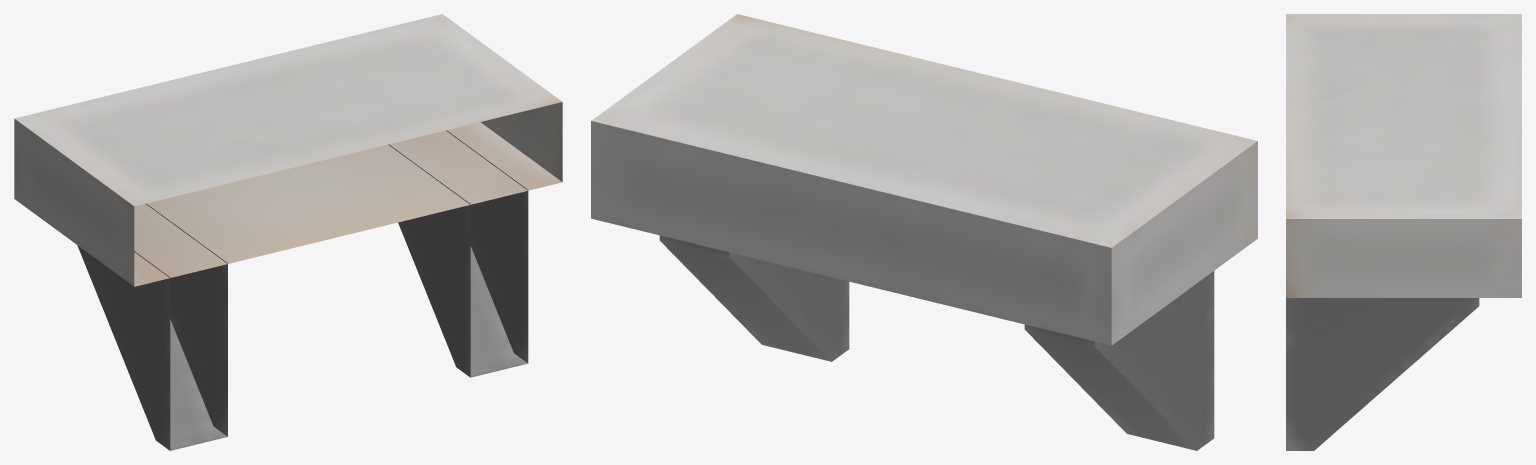
File: Pfb_Indoors_Study_Shelf__7.fbx
The picture shows the model from 3 angles, left to right: view 1: azimuth 30°, elevation 25°; view 2: azimuth 150°, elevation 25°; view 3: azimuth 270°, elevation 25°; orthographic projection. The views are drawn at different scales.
Visible parts, largest first — view 1: Mat_Indoors_Study_01_2; view 2: Mat_Indoors_Study_01_2; view 3: Mat_Indoors_Study_01_2.
Boxes of the visible parts, x1,y1,x2,y2 form: Mat_Indoors_Study_01_2: [14, 14, 562, 450]; Mat_Indoors_Study_01_2: [591, 14, 1257, 450]; Mat_Indoors_Study_01_2: [1286, 14, 1521, 450].
Size of the model in its own units: 0.8115 by 0.4586 by 0.3943.
1 material, 1 textured.
